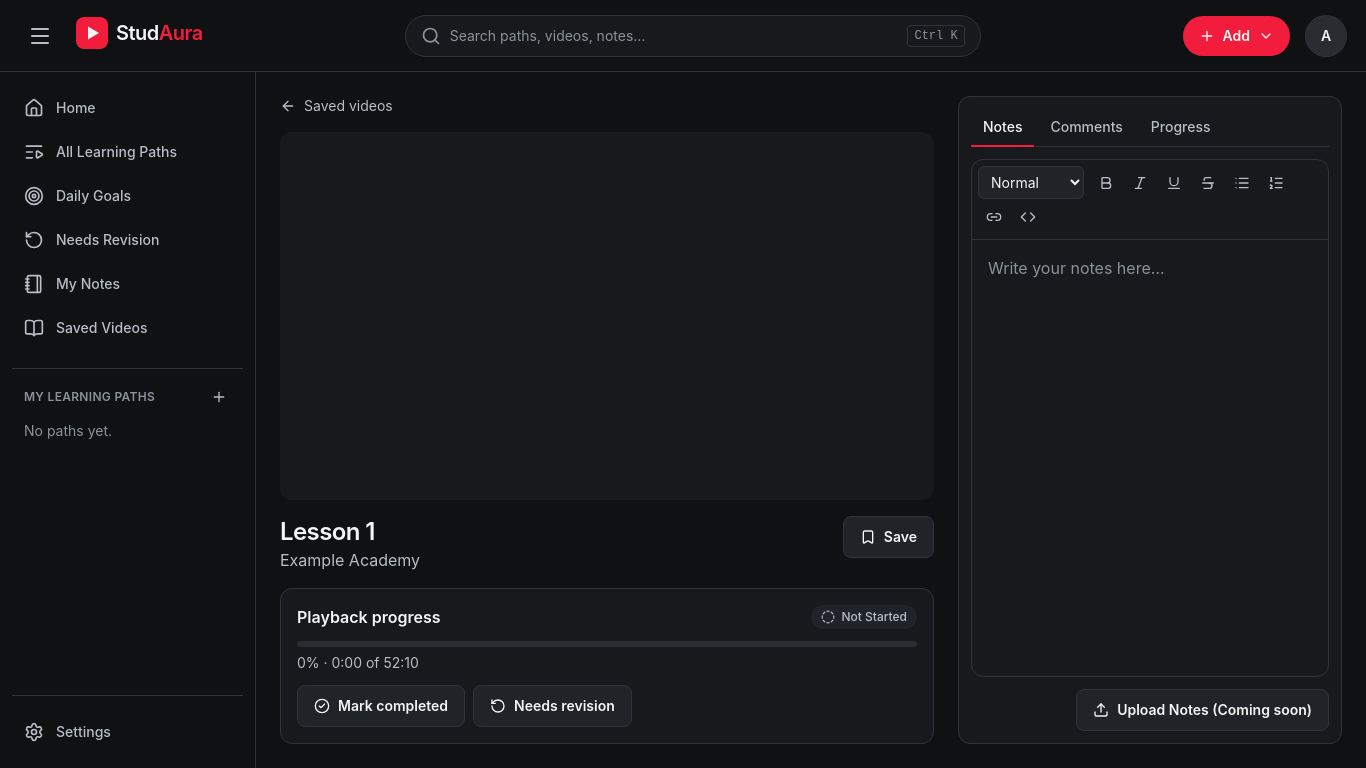
Test case: the Progress tab › leaves out the path block for a video outside any path
Expected: the heading "Lesson 1" is shown, x1=280 y1=517 x2=375 y2=546
Click the tab "Progress".
click(1181, 128)  # box x1=1139 y1=109 x2=1223 y2=147
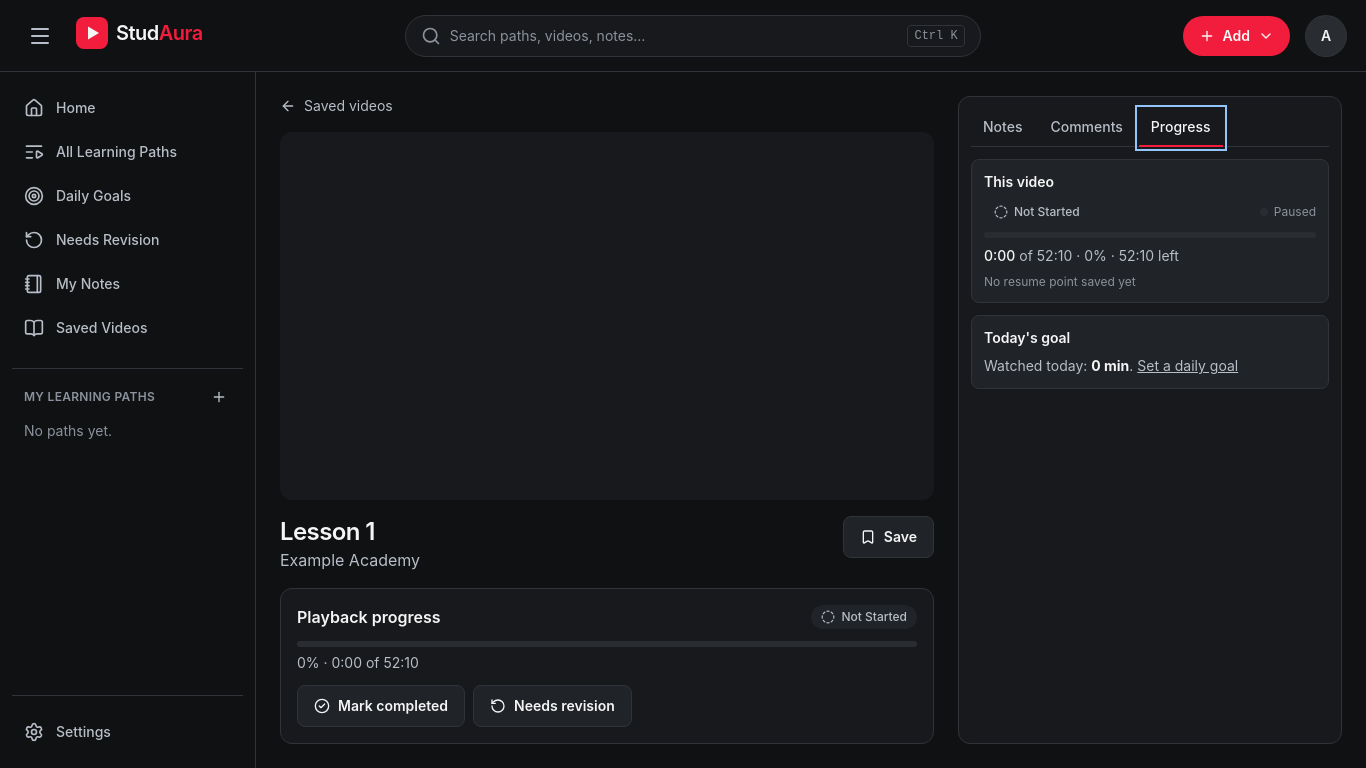
Expected: the element "This video" is shown, x1=971 y1=159 x2=1329 y2=303
Expected: the text "No resume point saved yet" is shown, x1=984 y1=274 x2=1136 y2=289
